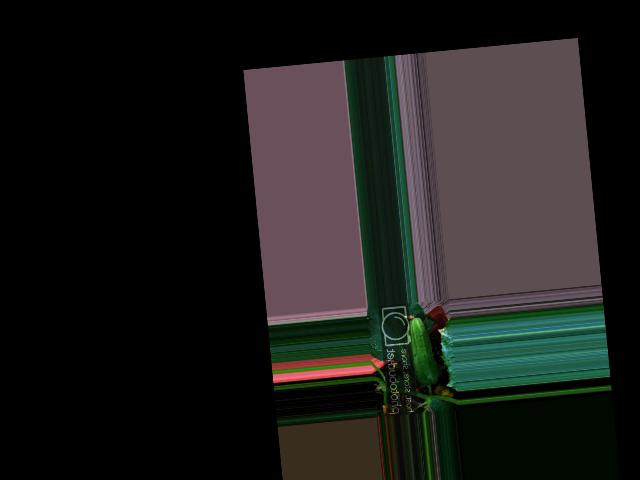cucumber: (404, 315, 439, 386)
